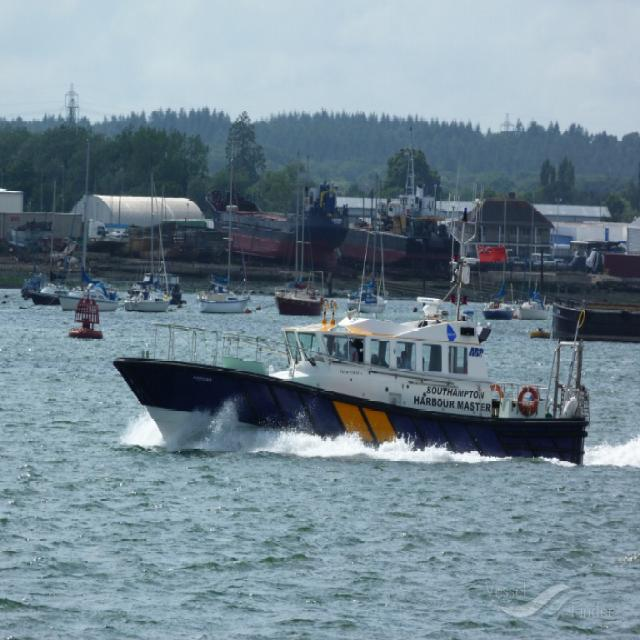OCR: (409, 385, 495, 422)
